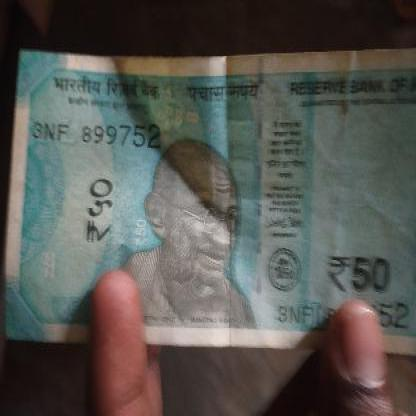New50Front: (1, 51, 415, 348)
